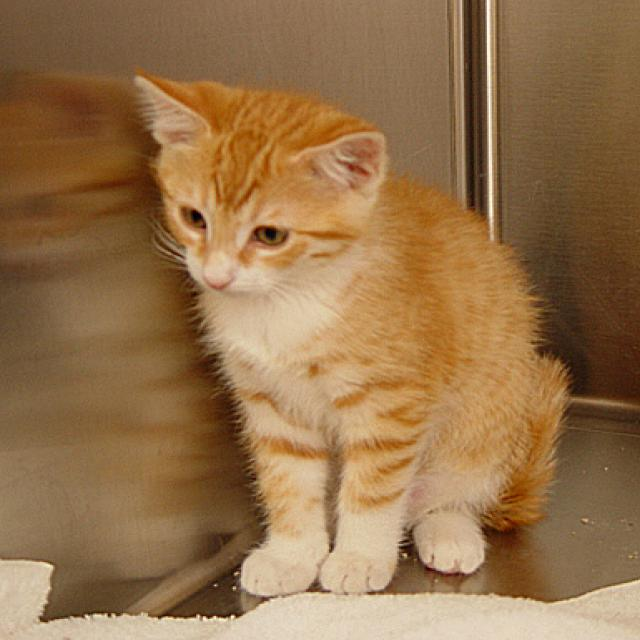Cats: (128, 68, 574, 596)
